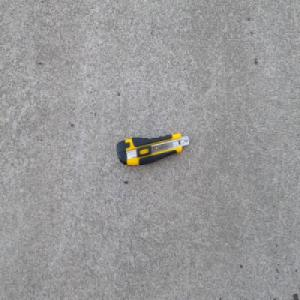Cutter: (116, 132, 189, 166)
